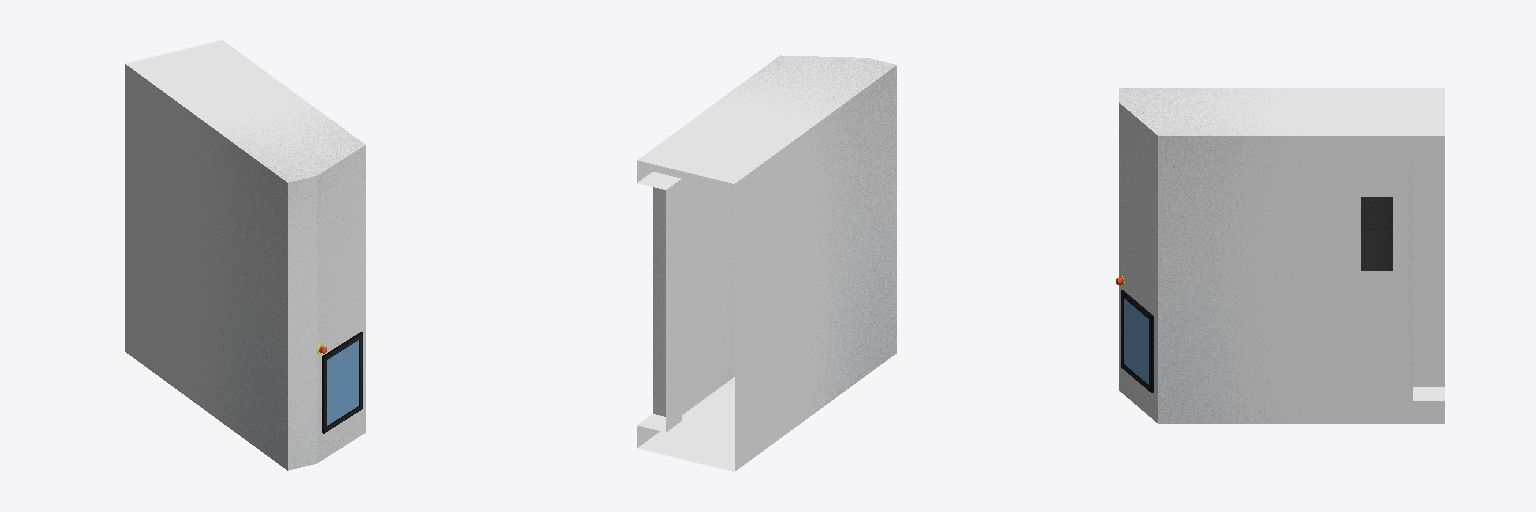
3 renders of one model, left to right at view 1: azimuth 30°, elevation 25°; view 2: azimuth 150°, elevation 25°; view 3: azimuth 270°, elevation 25°, orthographic.
Visible parts, largest first — view 1: HospitalRobotCharger_Cube; view 2: HospitalRobotCharger_Cube; view 3: HospitalRobotCharger_Cube.
Boxes of the visible parts, x1,y1,x2,y2 form: HospitalRobotCharger_Cube: [125, 40, 365, 470]; HospitalRobotCharger_Cube: [637, 55, 896, 471]; HospitalRobotCharger_Cube: [1116, 88, 1444, 423].
Bounding box in the file's own units: 0.2405 × 0.6786 × 0.7027.
Materials: 1 (1 with a texture image).